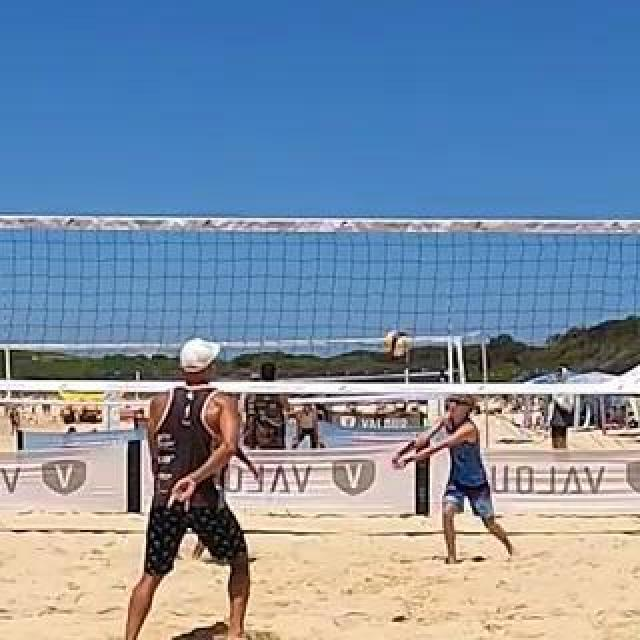volleyball: (384, 332, 410, 358)
